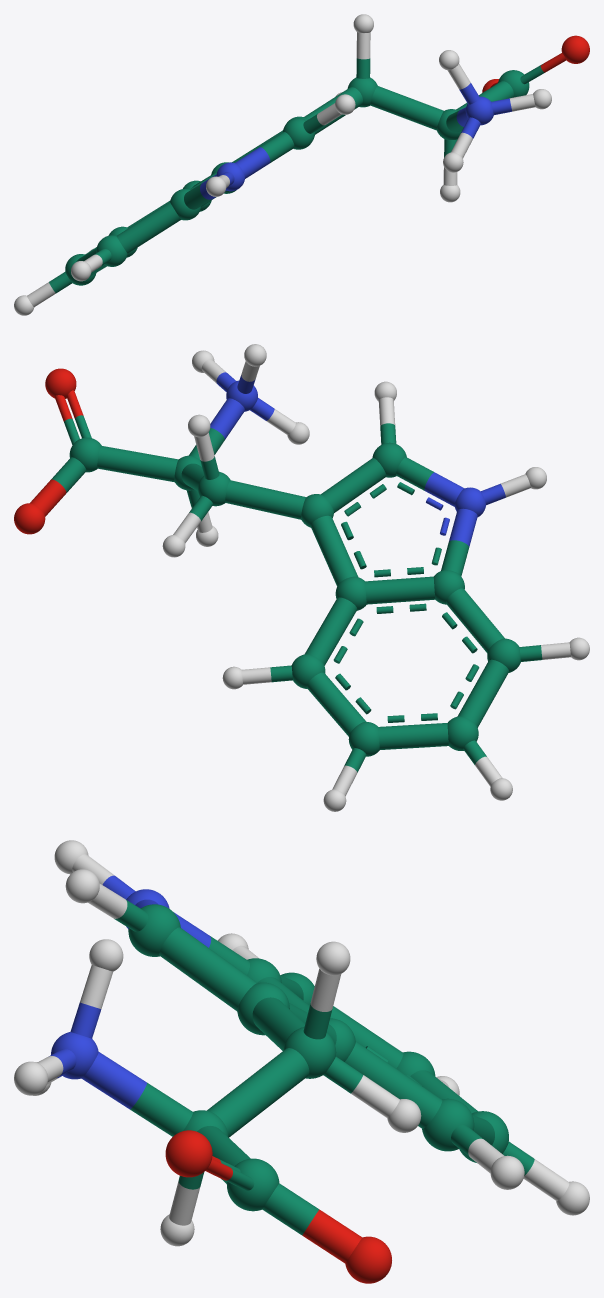
The model's file is TRP.PDB.glb.
3 renders of one model, top to bottom at view 1: azimuth 30°, elevation 25°; view 2: azimuth 150°, elevation 25°; view 3: azimuth 270°, elevation 25°, orthographic. The views are drawn at different scales.
Size of the model in its own units: 9.35 by 4.75 by 5.57.
